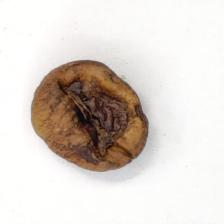NG: (47, 59, 147, 131), (48, 131, 149, 171)
